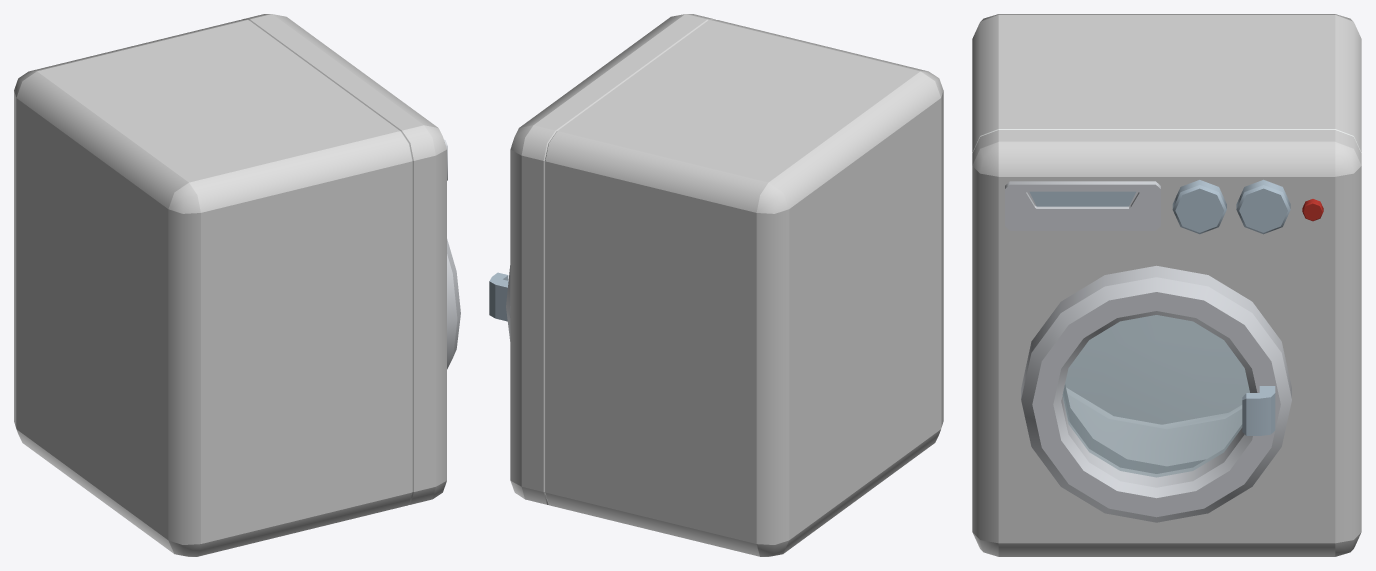
The model's file is Washing_machine.glb.
3 views of the same model, side by side, from view 1: azimuth 30°, elevation 25°; view 2: azimuth 150°, elevation 25°; view 3: azimuth 270°, elevation 25° (orthographic). The views are drawn at different scales.
Parts seen in each view (by area): view 1: Washing_machine, Washing_machine_door; view 2: Washing_machine, Washing_machine_door; view 3: Washing_machine, Washing_machine_door.
Boxes of the visible parts, left/top/right/bottom form: Washing_machine: left=14, top=14, right=447, bottom=556; Washing_machine_door: left=447, top=239, right=460, bottom=369; Washing_machine: left=510, top=14, right=943, bottom=556; Washing_machine_door: left=489, top=265, right=510, bottom=341; Washing_machine: left=972, top=14, right=1361, bottom=556; Washing_machine_door: left=1021, top=265, right=1291, bottom=522.
Bounding box in the file's own units: 0.7871 × 0.8495 × 0.7232.
Materials: 5 (4 with a texture image).
